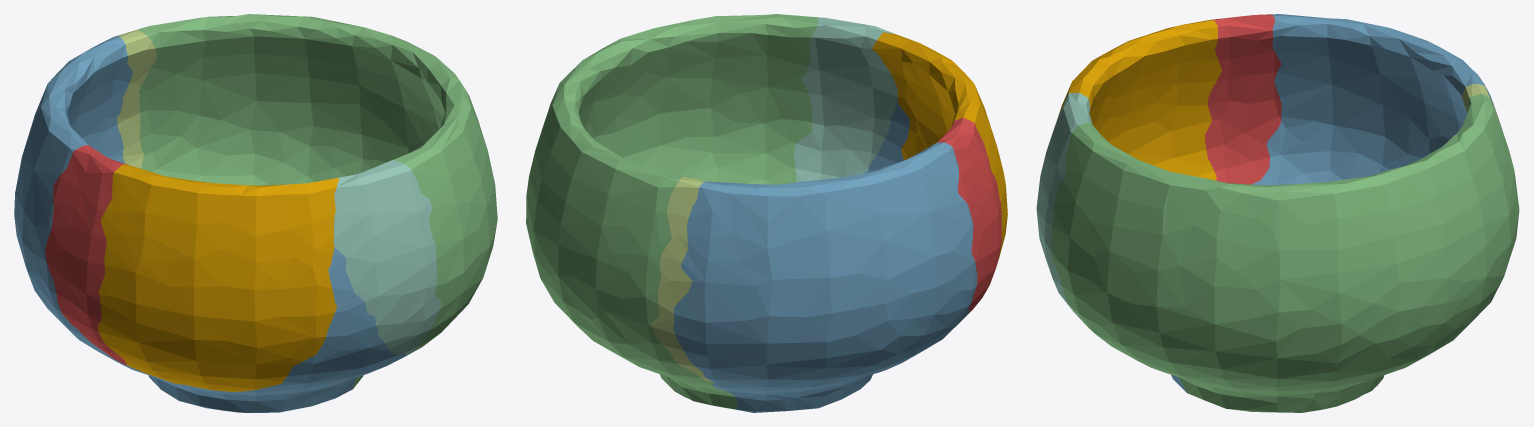
Rendered from fractured_75_6pcs.glb.
The picture shows the model from 3 angles, left to right: view 1: azimuth 30°, elevation 25°; view 2: azimuth 150°, elevation 25°; view 3: azimuth 270°, elevation 25°; orthographic projection.
Visible parts, largest first — view 1: piece_3.obj, piece_0.obj, piece_2.obj, piece_4.obj, piece_1.obj, piece_5.obj; view 2: piece_3.obj, piece_2.obj, piece_4.obj, piece_0.obj, piece_1.obj, piece_5.obj; view 3: piece_3.obj, piece_2.obj, piece_0.obj, piece_1.obj, piece_4.obj.
Boxes of the visible parts, bbox=[...] form: piece_3.obj: bbox=[137, 14, 497, 389]; piece_0.obj: bbox=[97, 164, 338, 391]; piece_2.obj: bbox=[14, 36, 406, 412]; piece_4.obj: bbox=[333, 160, 441, 354]; piece_1.obj: bbox=[45, 145, 126, 365]; piece_5.obj: bbox=[117, 30, 156, 168]; piece_3.obj: bbox=[526, 14, 818, 409]; piece_2.obj: bbox=[673, 101, 977, 412]; piece_4.obj: bbox=[793, 17, 897, 182]; piece_0.obj: bbox=[872, 32, 1007, 260]; piece_1.obj: bbox=[937, 117, 1001, 314]; piece_5.obj: bbox=[650, 176, 713, 383]; piece_3.obj: bbox=[1051, 94, 1519, 412]; piece_2.obj: bbox=[1171, 14, 1495, 391]; piece_0.obj: bbox=[1055, 19, 1221, 180]; piece_1.obj: bbox=[1205, 14, 1281, 184]; piece_4.obj: bbox=[1036, 92, 1092, 319].
Bounding box in the file's own units: 0.9997 × 0.6135 × 1.
